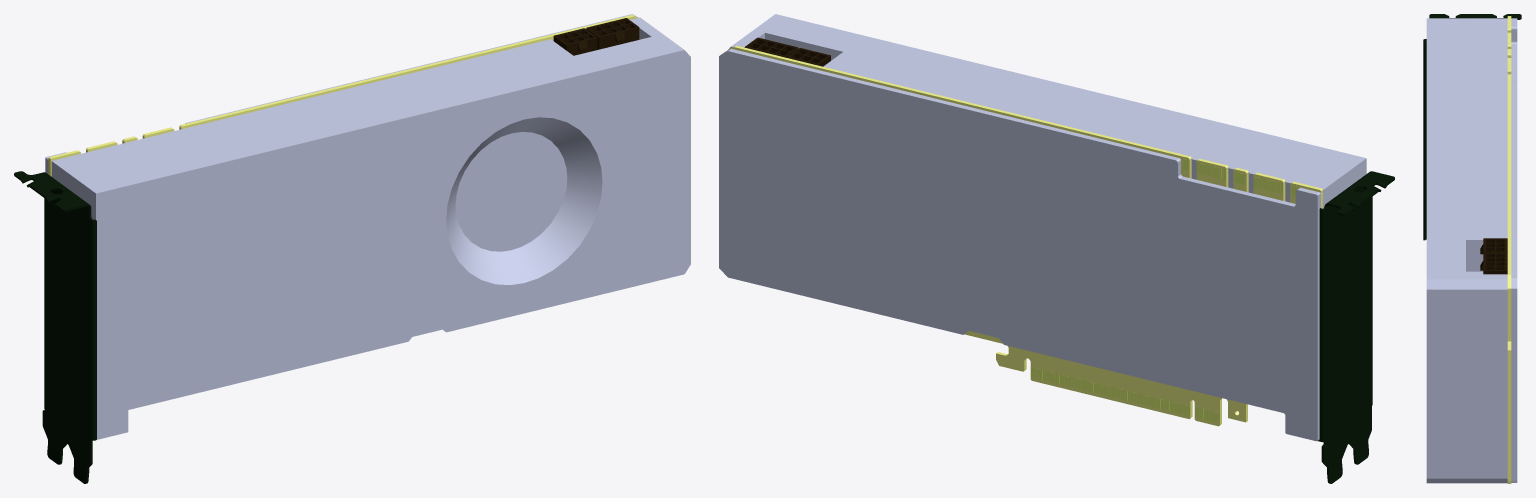
The model's file is gtx 10 series standard model.fbx.
The picture shows the model from 3 angles, left to right: view 1: azimuth 30°, elevation 25°; view 2: azimuth 150°, elevation 25°; view 3: azimuth 270°, elevation 25°; orthographic projection. The views are drawn at different scales.
Visible parts, largest first — view 1: Body20, Body8, Body13, Body11, Body10, Body19; view 2: Body19, Body20, Body8, Body13; view 3: Body20, Body19, Body13, Body8, Body11, Body10.
Boxes of the visible parts, <box> form: Body20: <box>51,17,690,439</box>; Body8: <box>14,171,96,483</box>; Body13: <box>48,14,637,176</box>; Body11: <box>586,18,639,49</box>; Body10: <box>553,28,597,55</box>; Body19: <box>45,14,638,173</box>; Body19: <box>719,48,1320,441</box>; Body20: <box>727,14,1366,208</box>; Body8: <box>1318,171,1394,483</box>; Body13: <box>724,45,1322,426</box>; Body20: <box>1426,18,1507,483</box>; Body19: <box>1511,18,1517,482</box>; Body13: <box>1507,16,1511,483</box>; Body8: <box>1423,14,1521,240</box>; Body11: <box>1480,252,1507,274</box>; Body10: <box>1480,238,1507,254</box>.
Bounding box in the file's own units: 280 × 127 × 41.89.
